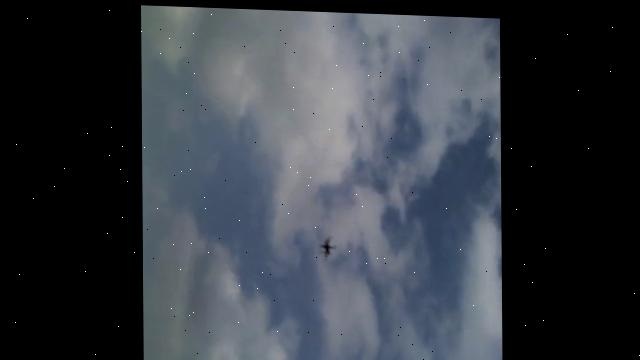drone: (317, 233, 341, 258)
